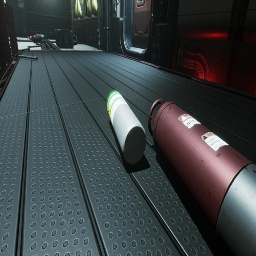0: (106, 90, 146, 164), (36, 34, 47, 38)
FireExtinguisher ]: (27, 36, 32, 40)
NitrogenTank ,: (148, 98, 256, 256), (31, 34, 42, 43)
SafetySwitchPanel ,: (113, 0, 120, 18)
